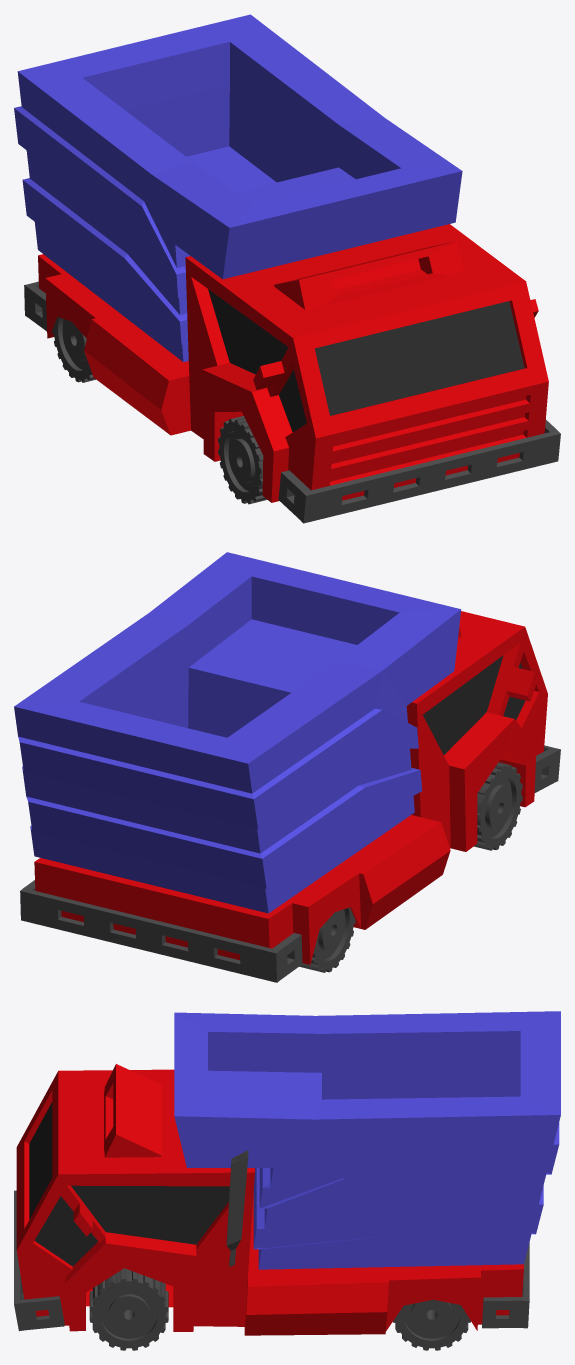
File: truck.fbx
3 views of the same model, one above another, from view 1: azimuth 30°, elevation 25°; view 2: azimuth 150°, elevation 25°; view 3: azimuth 270°, elevation 25° (orthographic). The views are drawn at different scales.
Visible parts, largest first — view 1: Plano.003_Plano.004; view 2: Plano.003_Plano.004; view 3: Plano.003_Plano.004.
Boxes of the visible parts, x1,y1,x2,y2 form: Plano.003_Plano.004: (14,14,560,523); Plano.003_Plano.004: (14,552,560,982); Plano.003_Plano.004: (14,1011,560,1350).
Bounding box in the file's own units: 229 × 191 × 410.
